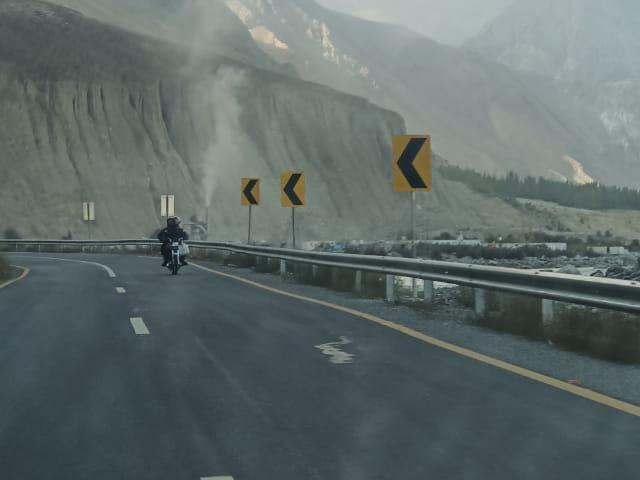left_turn: (0, 185, 157, 301), (391, 134, 434, 190), (283, 169, 309, 208), (241, 175, 263, 205)
